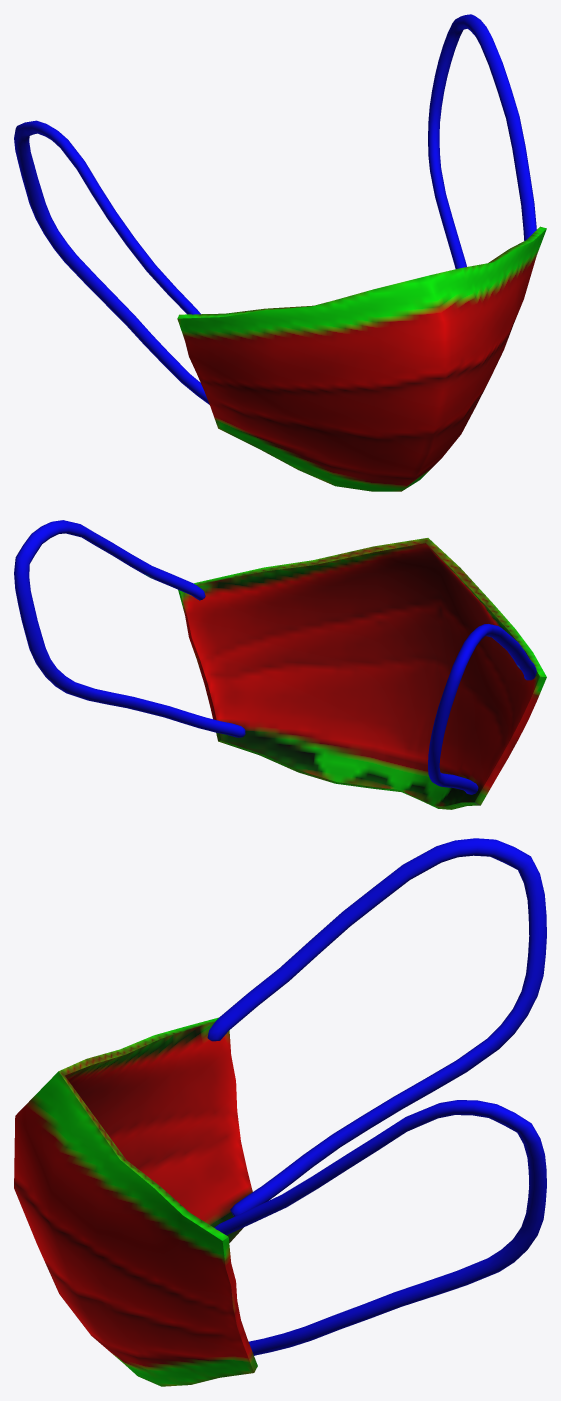
The model's file is LowerFace_MedicalMask.obj.
3 views of the same model, one above another, from view 1: azimuth 30°, elevation 25°; view 2: azimuth 150°, elevation 25°; view 3: azimuth 270°, elevation 25° (orthographic). The views are drawn at different scales.
Visible parts, largest first — view 1: LowerFace_MedicalMask_0; view 2: LowerFace_MedicalMask_0; view 3: LowerFace_MedicalMask_0.
Boxes of the visible parts, <box> form: LowerFace_MedicalMask_0: <box>14,14,546,491</box>; LowerFace_MedicalMask_0: <box>14,520,546,809</box>; LowerFace_MedicalMask_0: <box>14,838,546,1386</box>.
Bounding box in the file's own units: 0.1858 × 0.1254 × 0.1538.
1 material, 1 textured.
